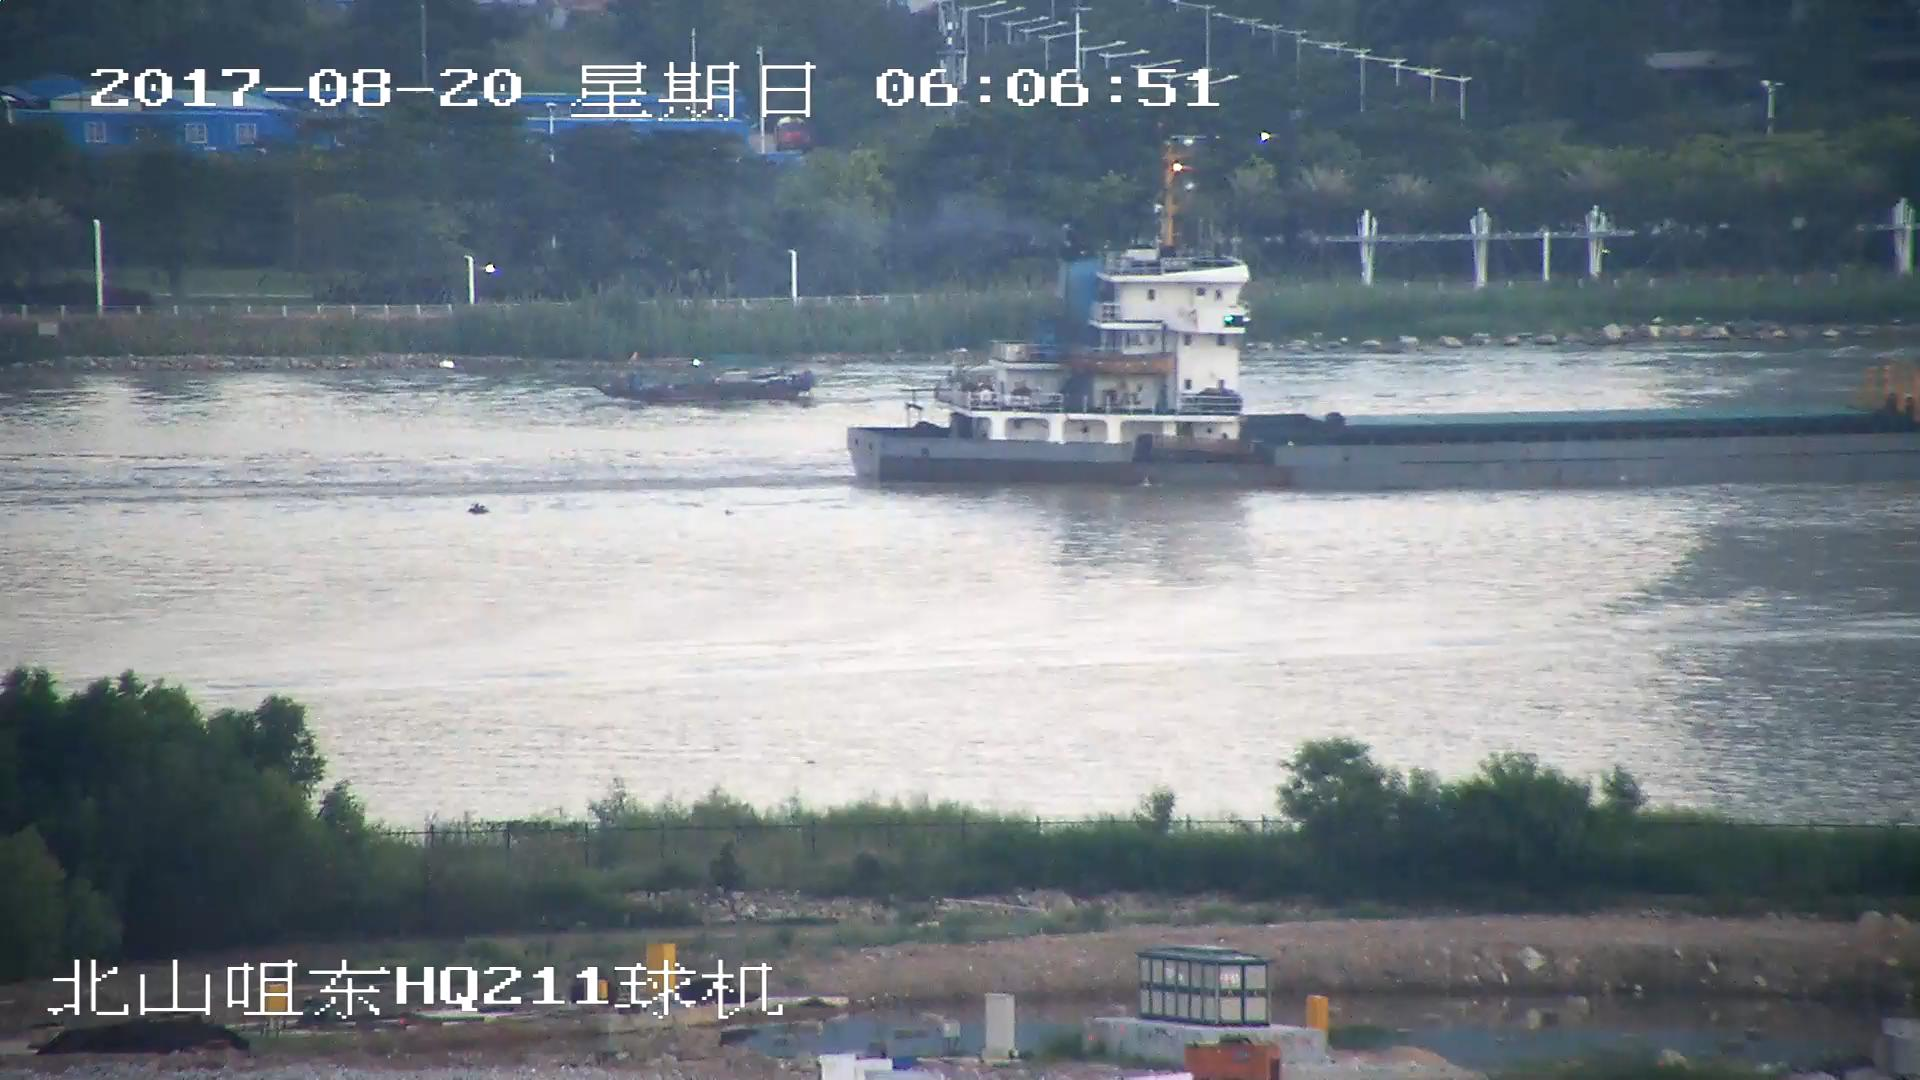fishing boat: (593, 364, 813, 406)
general cargo ship: (839, 212, 1920, 484)
